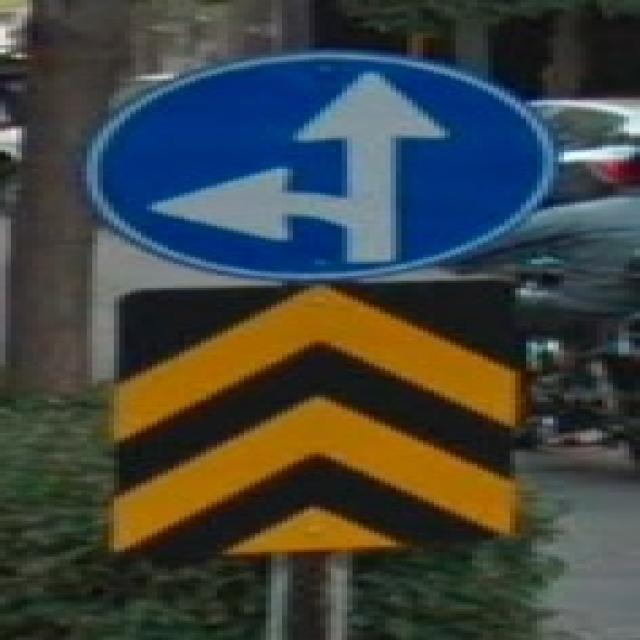Straight or Left: (83, 53, 555, 282)
